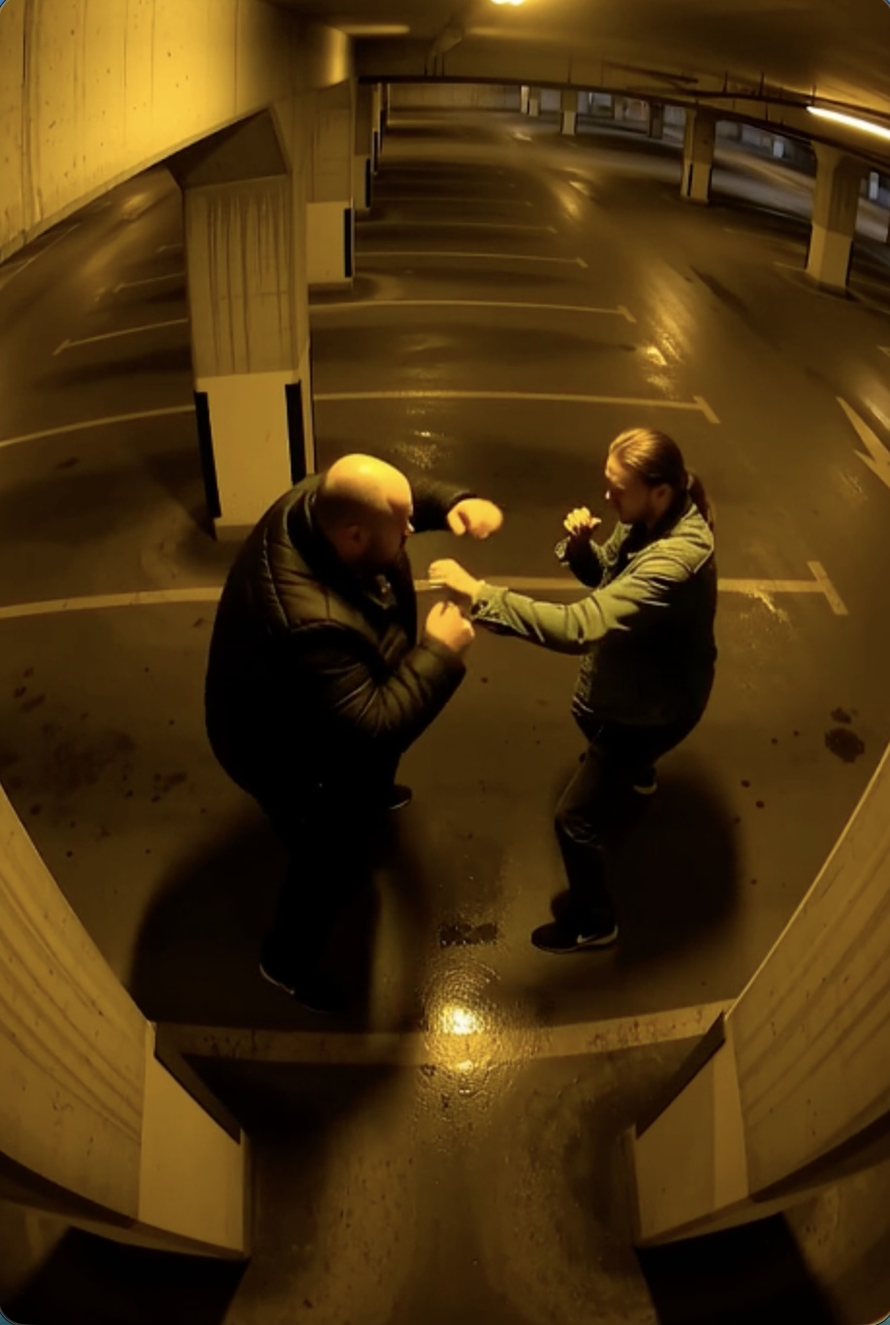Assault: (202, 451, 505, 1013)
Fighting: (430, 427, 723, 954)
